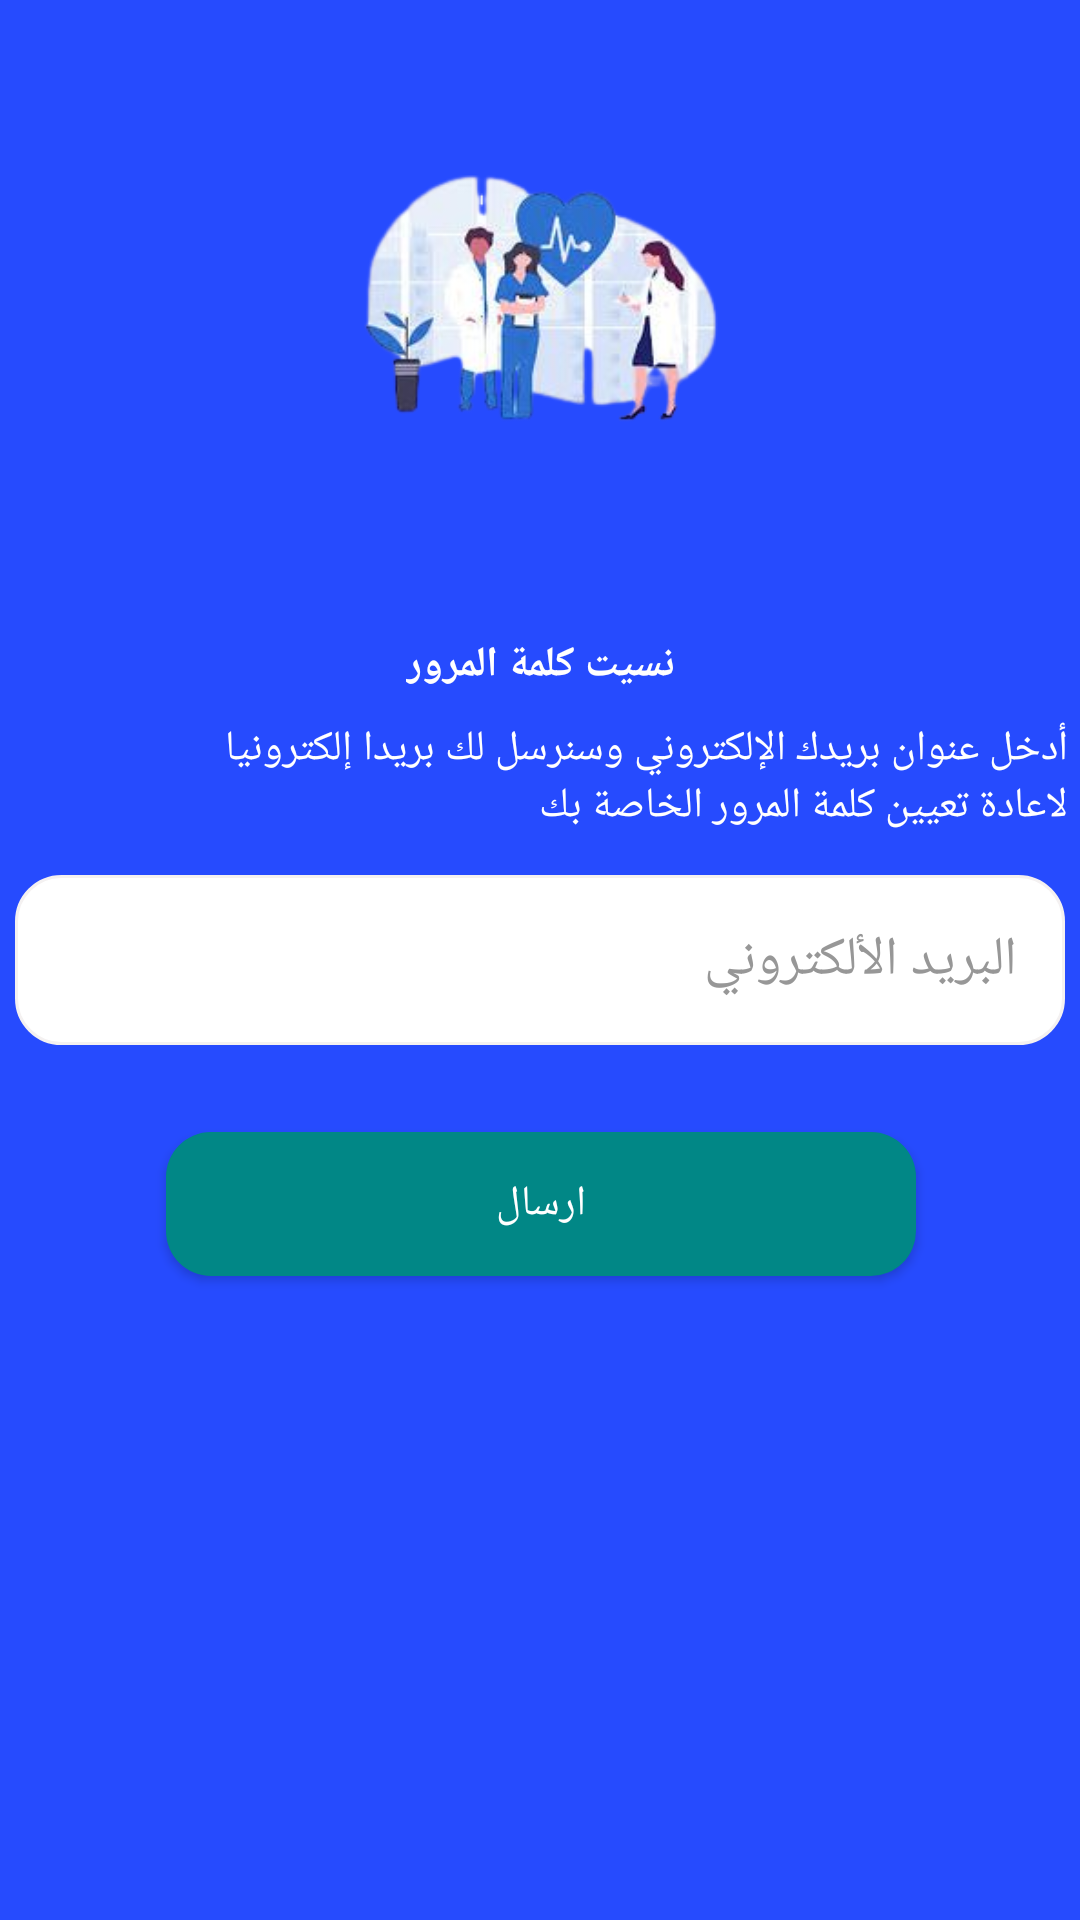

Screen size 1080 × 1920. Icon name, then its center in pixels as (x,y):
undraw medicine care: (541,297)
